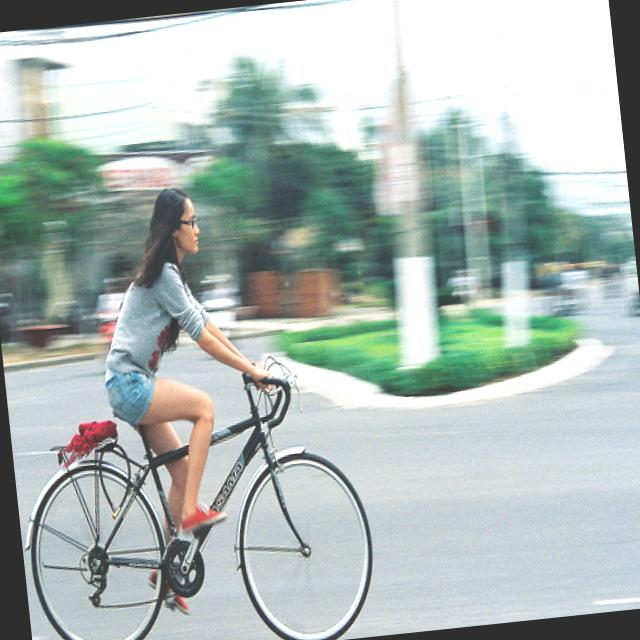Vehicle: (92, 291, 129, 335), (555, 268, 598, 300), (617, 255, 640, 313), (433, 268, 470, 304)
